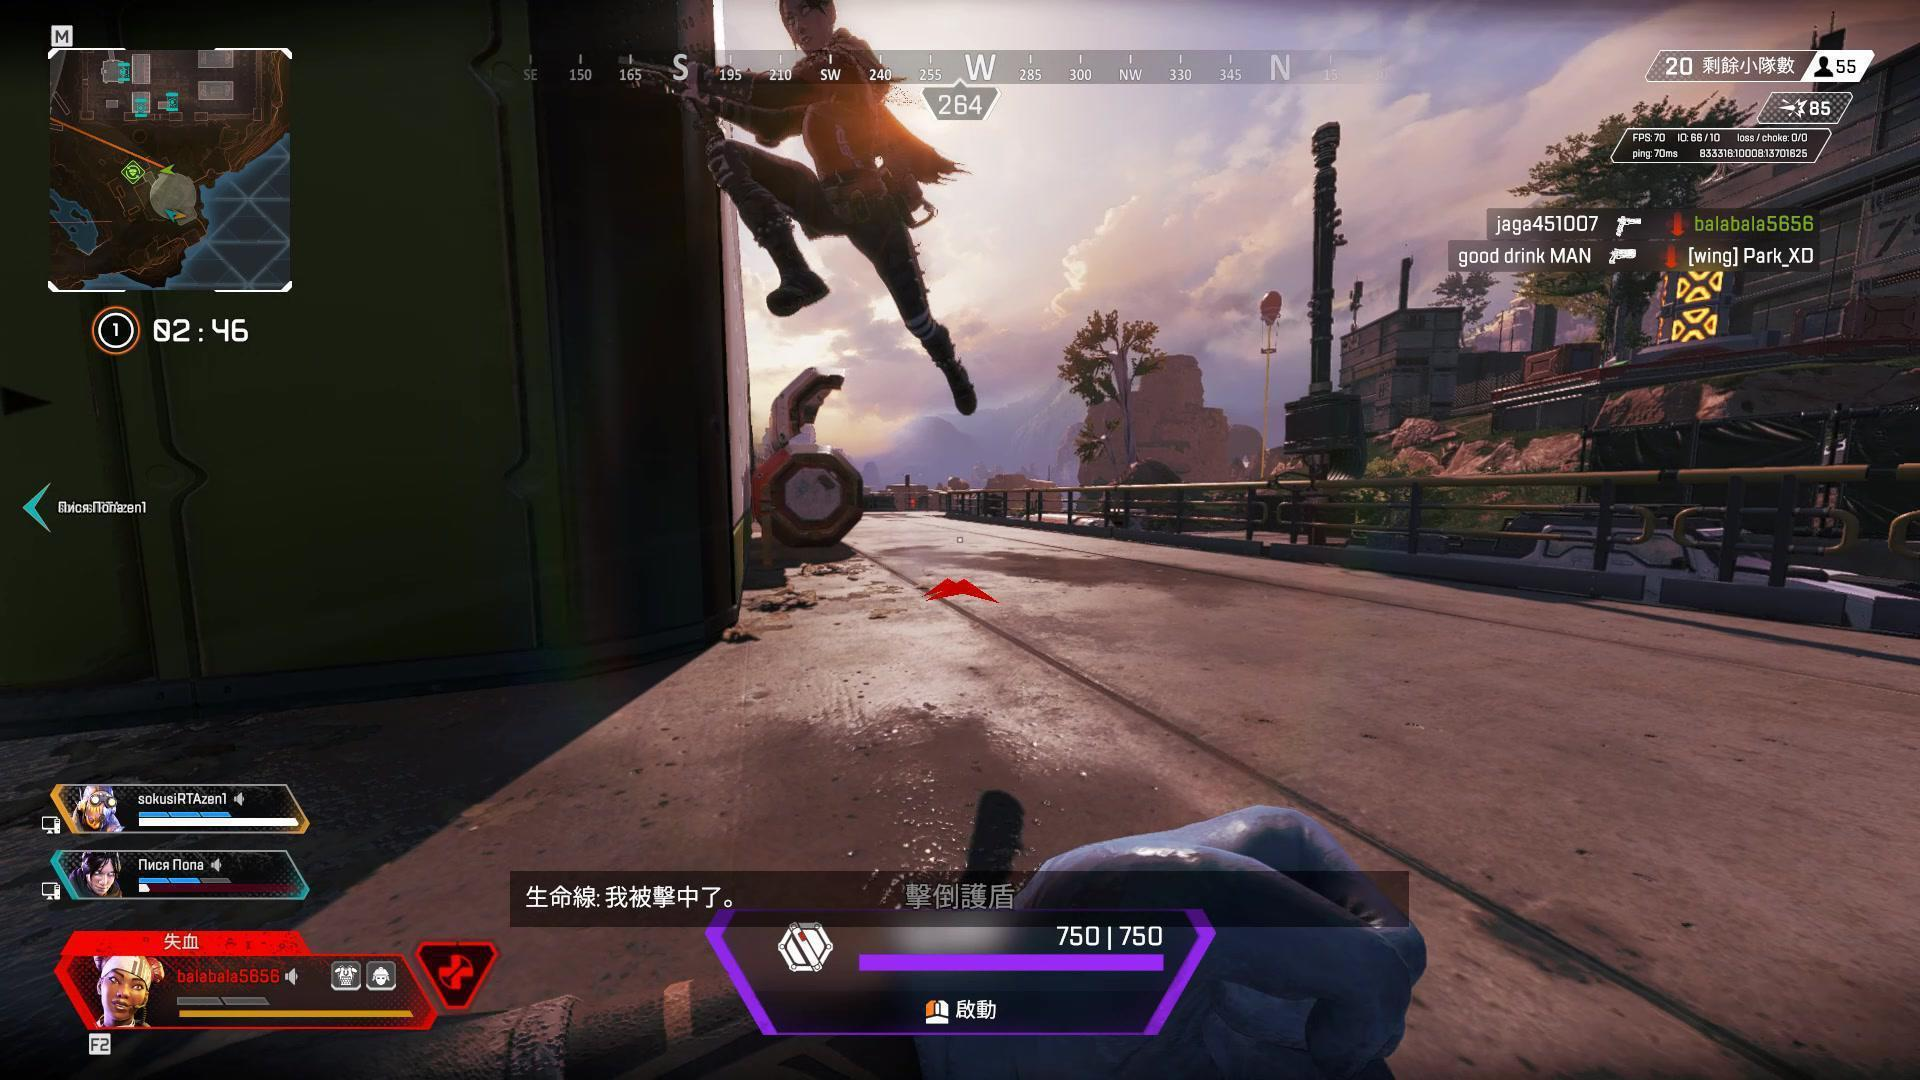avatar: (710, 0, 924, 322)
